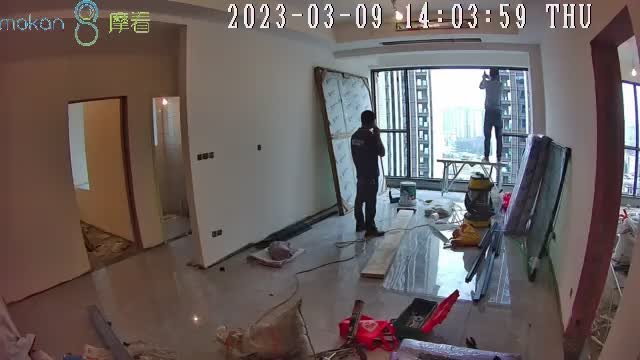people: (351, 110, 385, 238), (479, 66, 505, 163)
window: (371, 67, 529, 185), (621, 83, 640, 195)
